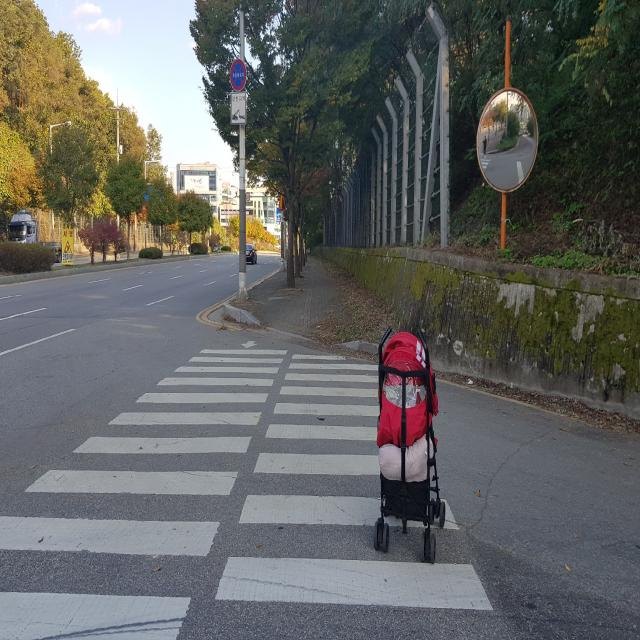횡단보도: (0, 341, 493, 639)
